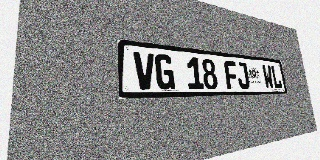1: (186, 57, 204, 89)
8: (201, 58, 218, 89)
F: (224, 60, 239, 89)
G: (154, 54, 175, 90)
J: (236, 62, 250, 89)
L: (270, 65, 282, 89)
V: (133, 52, 156, 90)
W: (262, 64, 274, 89)
